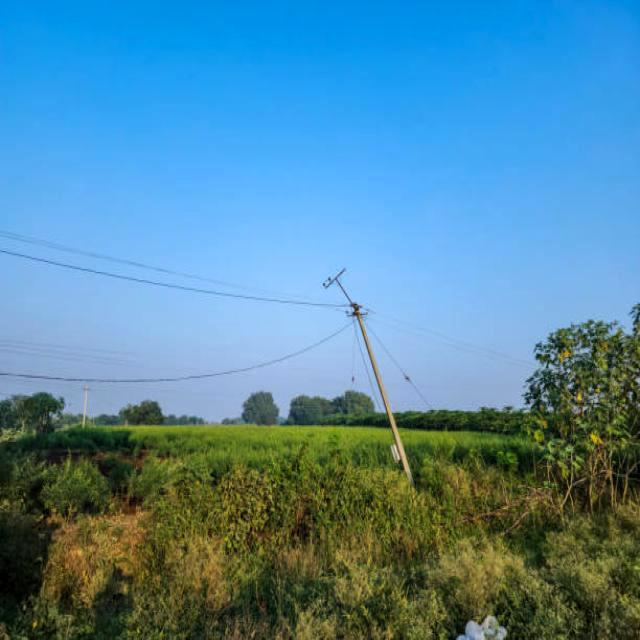Broken Pole: (318, 262, 443, 516)
